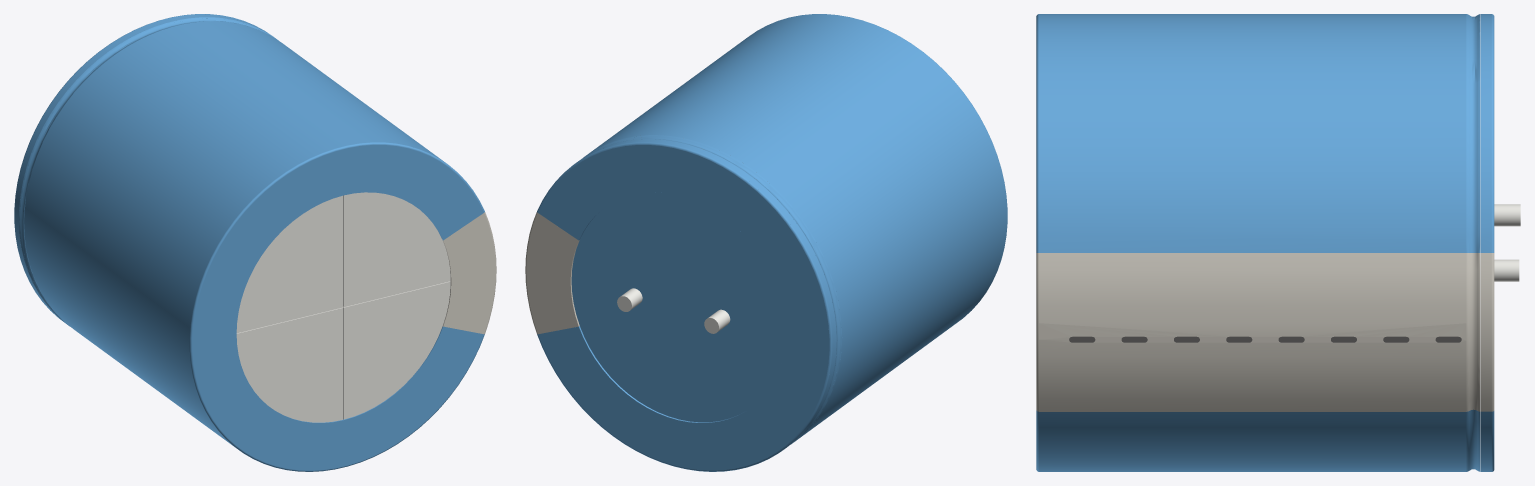
File: CP_Radial_D35.0mm_P10.00mm_SnapIn.glb
3 views of the same model, side by side, from view 1: azimuth 30°, elevation 25°; view 2: azimuth 150°, elevation 25°; view 3: azimuth 270°, elevation 25° (orthographic). The views are drawn at different scales.
Parts seen in each view (by area): view 1: Shape_IndexedFaceSet.019, Shape_IndexedFaceSet.031, Shape_IndexedFaceSet.035, Shape_IndexedFaceSet.037, Shape_IndexedFaceSet.041, Shape_IndexedFaceSet.044, Shape_IndexedFaceSet.032, Shape_IndexedFaceSet.021, Shape_IndexedFaceSet.011, Shape_IndexedFaceSet.015, Shape_IndexedFaceSet.013; view 2: Shape_IndexedFaceSet.019, Shape_IndexedFaceSet.002, Shape_IndexedFaceSet.006, Shape_IndexedFaceSet.007, Shape_IndexedFaceSet.009, Shape_IndexedFaceSet.011, Shape_IndexedFaceSet.015, Shape_IndexedFaceSet.017; view 3: Shape_IndexedFaceSet.019, Shape_IndexedFaceSet.020, Shape_IndexedFaceSet.011, Shape_IndexedFaceSet.015, Shape_IndexedFaceSet.012, Shape_IndexedFaceSet.016, Shape_IndexedFaceSet.013, Shape_IndexedFaceSet.009, Shape_IndexedFaceSet.017, Shape_IndexedFaceSet.021, Shape_IndexedFaceSet.010, Shape_IndexedFaceSet.014 (+2 smaller).
Part boxes in pixels (left/top/right/bottom): Shape_IndexedFaceSet.019: left=24, top=21, right=445, bottom=445; Shape_IndexedFaceSet.031: left=192, top=145, right=483, bottom=470; Shape_IndexedFaceSet.035: left=344, top=281, right=450, bottom=419; Shape_IndexedFaceSet.037: left=344, top=192, right=450, bottom=306; Shape_IndexedFaceSet.041: left=236, top=308, right=342, bottom=422; Shape_IndexedFaceSet.044: left=236, top=195, right=342, bottom=332; Shape_IndexedFaceSet.032: left=443, top=213, right=495, bottom=334; Shape_IndexedFaceSet.021: left=189, top=142, right=484, bottom=471; Shape_IndexedFaceSet.011: left=14, top=14, right=273, bottom=322; Shape_IndexedFaceSet.015: left=20, top=18, right=261, bottom=311; Shape_IndexedFaceSet.013: left=19, top=17, right=278, bottom=326; Shape_IndexedFaceSet.019: left=586, top=14, right=1007, bottom=441; Shape_IndexedFaceSet.002: left=571, top=192, right=785, bottom=422; Shape_IndexedFaceSet.006: left=538, top=145, right=829, bottom=470; Shape_IndexedFaceSet.007: left=526, top=213, right=578, bottom=334; Shape_IndexedFaceSet.009: left=537, top=142, right=832, bottom=471; Shape_IndexedFaceSet.011: left=576, top=139, right=836, bottom=449; Shape_IndexedFaceSet.015: left=599, top=136, right=840, bottom=430; Shape_IndexedFaceSet.017: left=583, top=135, right=842, bottom=443; Shape_IndexedFaceSet.019: left=1039, top=14, right=1466, bottom=471; Shape_IndexedFaceSet.020: left=1039, top=253, right=1466, bottom=411; Shape_IndexedFaceSet.011: left=1480, top=14, right=1491, bottom=471; Shape_IndexedFaceSet.015: left=1469, top=15, right=1477, bottom=470; Shape_IndexedFaceSet.012: left=1480, top=253, right=1491, bottom=411; Shape_IndexedFaceSet.016: left=1469, top=253, right=1477, bottom=410; Shape_IndexedFaceSet.013: left=1477, top=14, right=1480, bottom=471; Shape_IndexedFaceSet.009: left=1491, top=14, right=1494, bottom=471; Shape_IndexedFaceSet.017: left=1466, top=14, right=1468, bottom=471; Shape_IndexedFaceSet.021: left=1036, top=14, right=1038, bottom=471; Shape_IndexedFaceSet.010: left=1491, top=253, right=1494, bottom=411; Shape_IndexedFaceSet.014: left=1477, top=253, right=1480, bottom=411.
Size of the model in its own units: 13.78 by 13.78 by 14.57.
